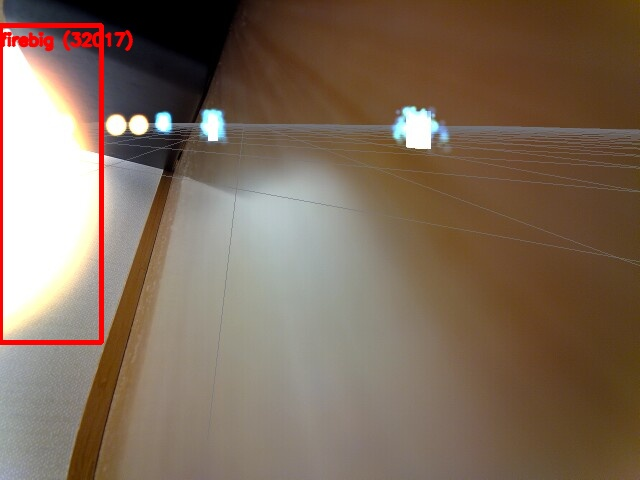firebig: (0, 25, 101, 342)
